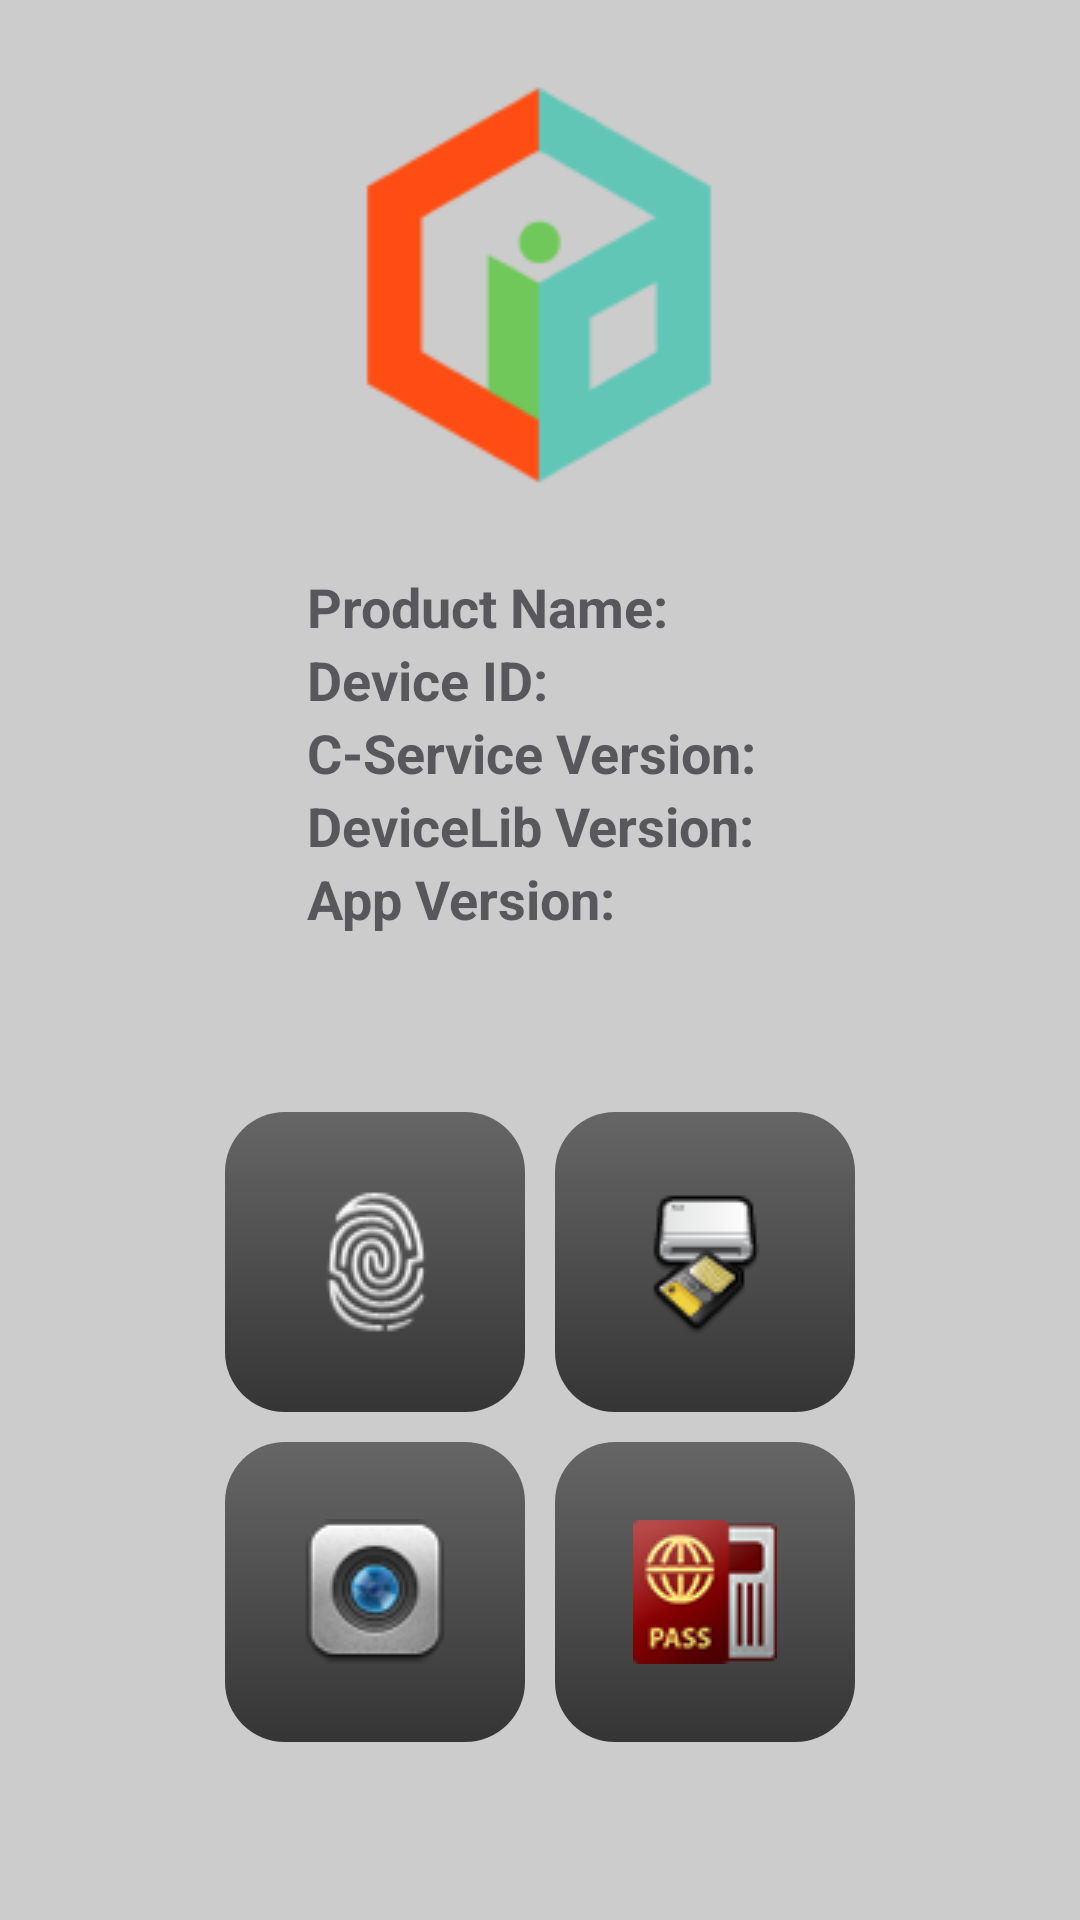

Icons on this 1080×1920 Android screen, each with its box as (x1, y1, x2, y2):
camera: (225, 1442, 525, 1742)
card reader: (555, 1112, 855, 1412)
fingerprint: (225, 1112, 525, 1412)
